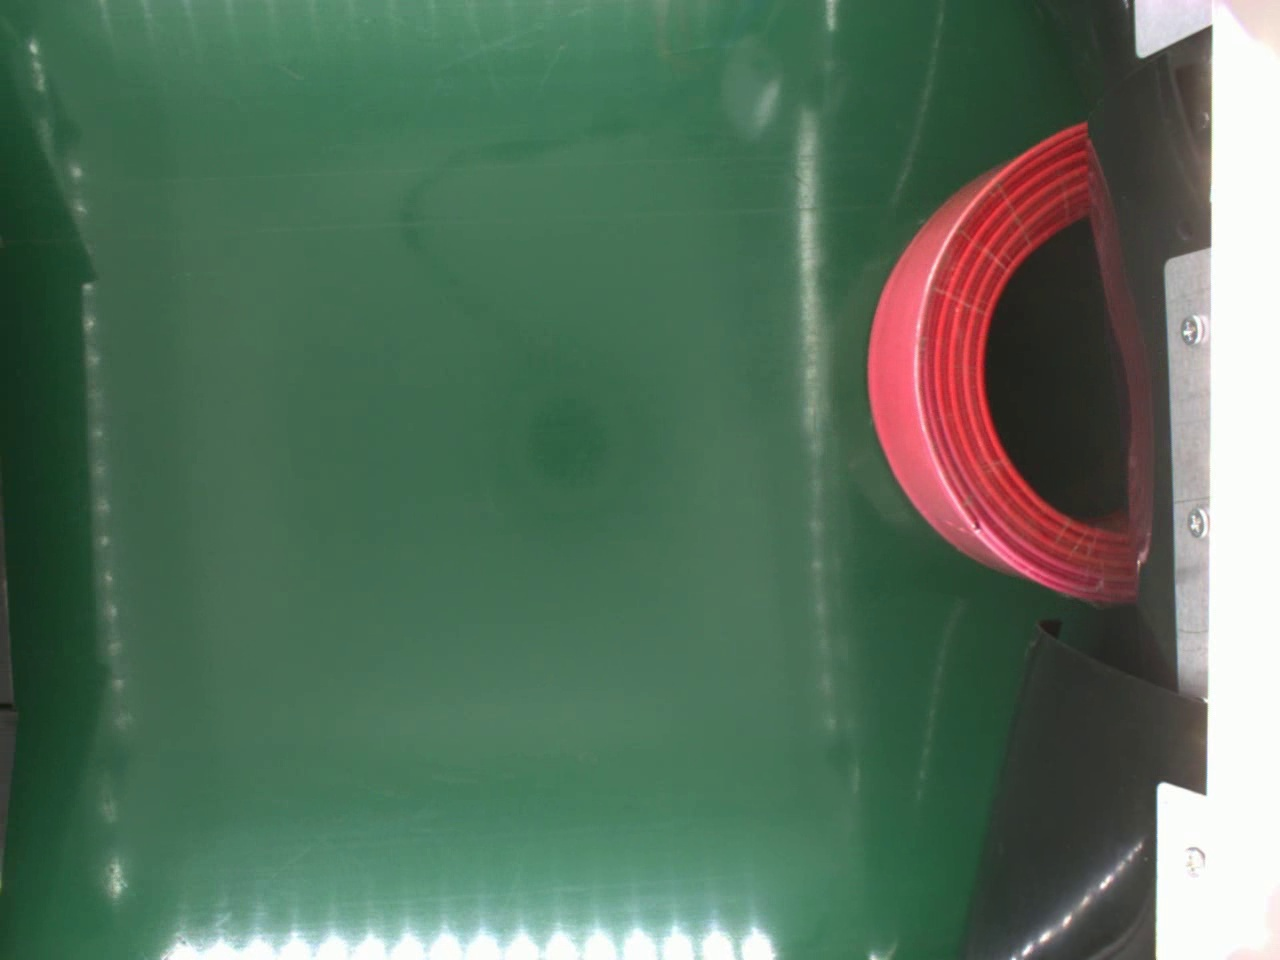red: (866, 117, 1146, 614)
